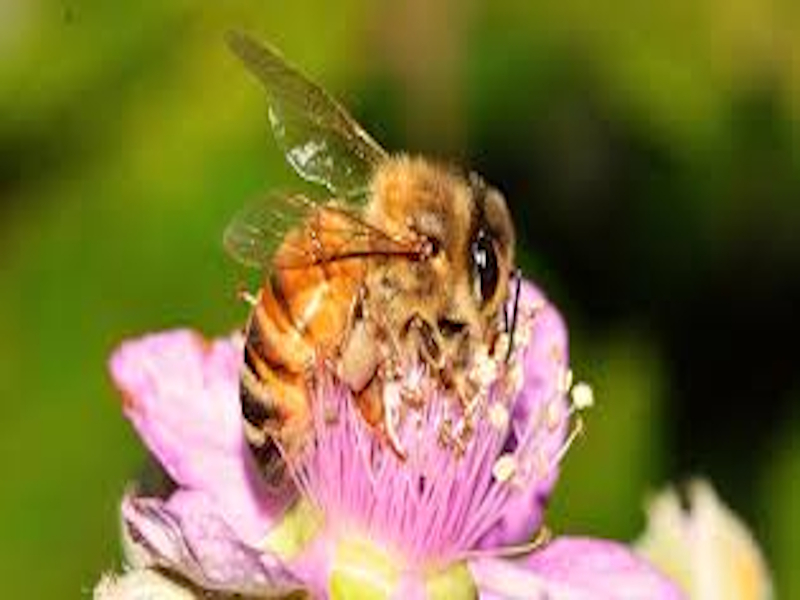abeja: (209, 19, 541, 509)
